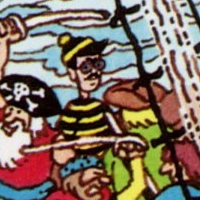odlaw: (69, 36, 102, 94)
